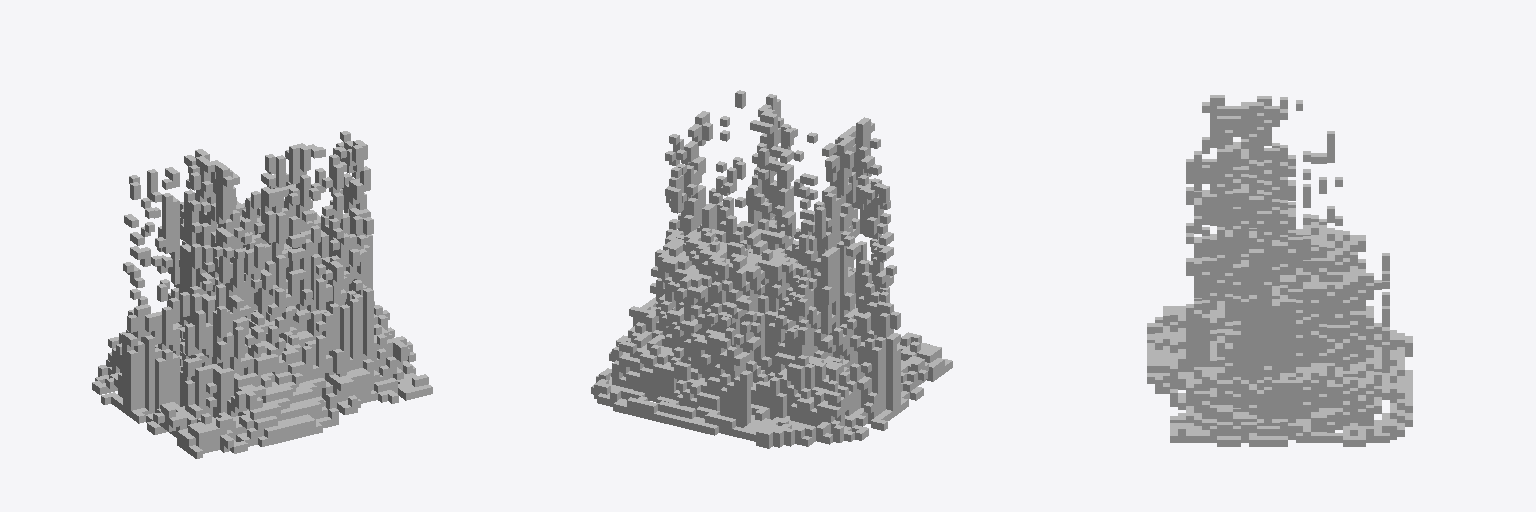
File: rocks1.obj
3 views of the same model, side by side, from view 1: azimuth 30°, elevation 25°; view 2: azimuth 150°, elevation 25°; view 3: azimuth 270°, elevation 25° (orthographic).
Size of the model in its own units: 40 by 36 by 34.